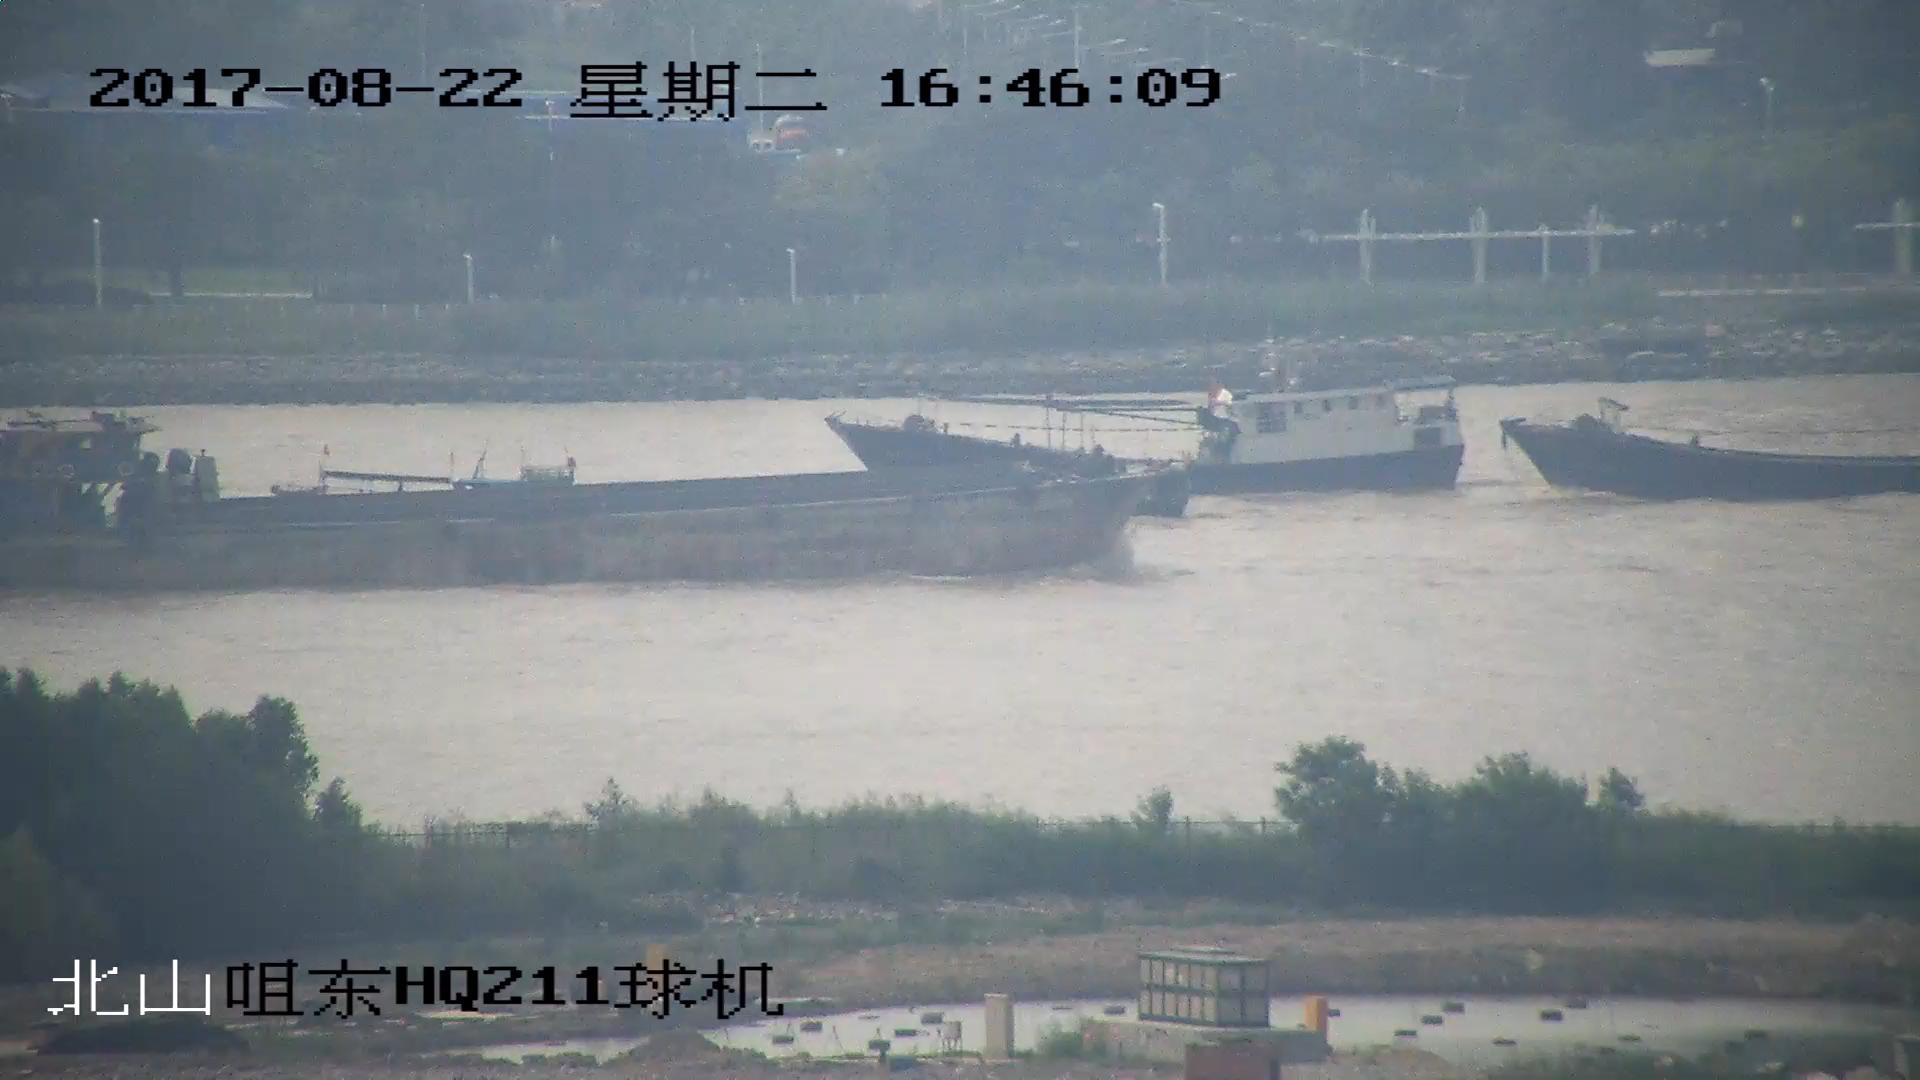bulk cargo carrier: (1, 412, 1165, 594)
fishing boat: (833, 378, 1465, 497), (1497, 401, 1920, 504)
